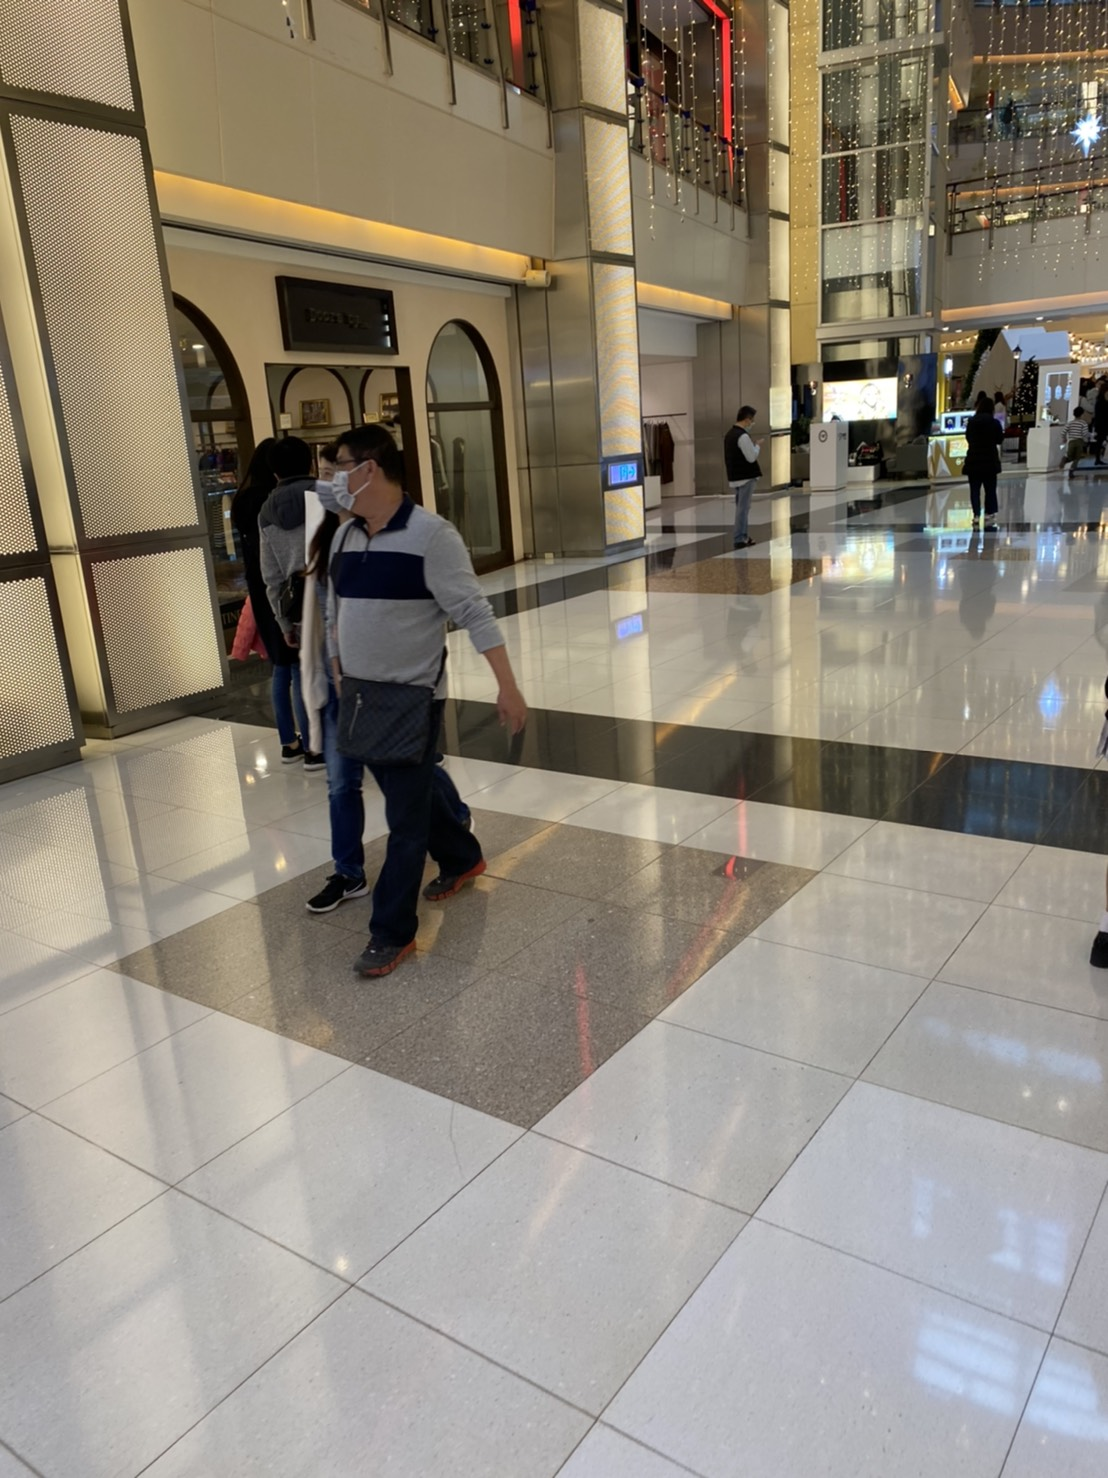people: (307, 433, 509, 978), (238, 443, 331, 773), (959, 385, 1017, 535), (721, 393, 774, 550)
